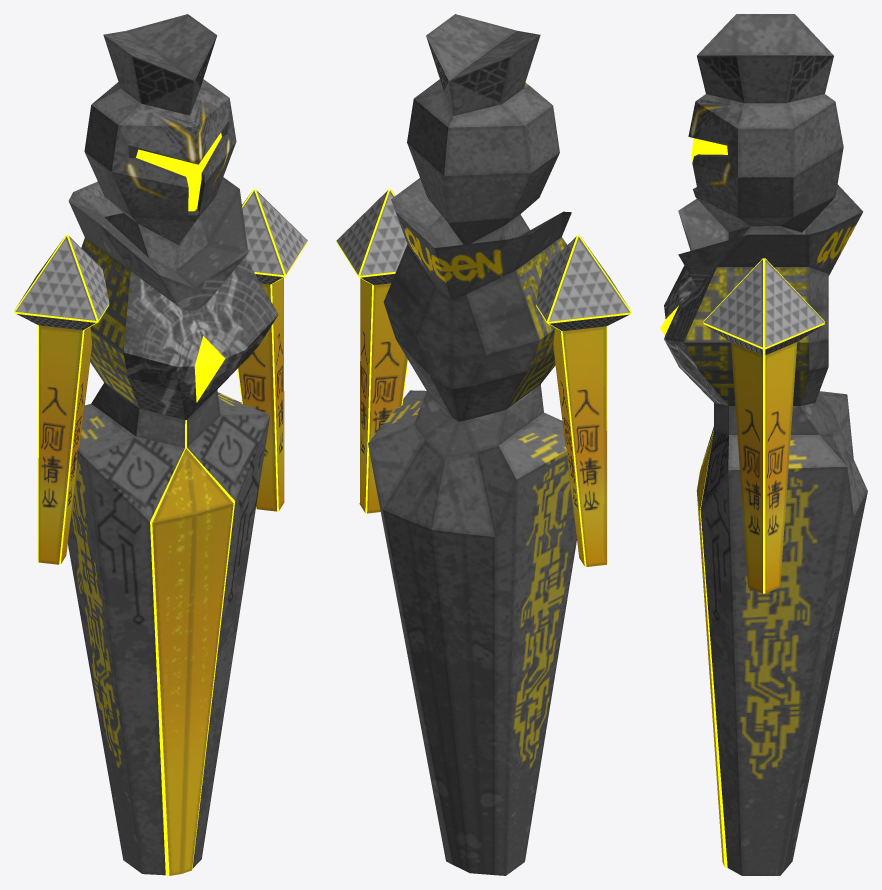
Rendered from Binance_Queen.glb.
3 renders of one model, left to right at view 1: azimuth 30°, elevation 25°; view 2: azimuth 150°, elevation 25°; view 3: azimuth 270°, elevation 25°, orthographic.
Parts seen in each view (by area): view 1: Qween_Etheriumm; view 2: Qween_Etheriumm; view 3: Qween_Etheriumm.
Boxes of the visible parts, x1,y1,x2,y2 form: Qween_Etheriumm: (14,14,307,875); Qween_Etheriumm: (336,14,631,875); Qween_Etheriumm: (660,14,867,875).
Size of the model in its own units: 0.6806 by 1.83 by 0.4172.
Materials: 2 (1 with a texture image).
